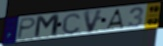3: (127, 7, 144, 28)
A: (104, 8, 125, 31)
C: (61, 12, 82, 35)
M: (33, 13, 61, 39)
P: (16, 17, 38, 40)
V: (83, 8, 106, 34)
